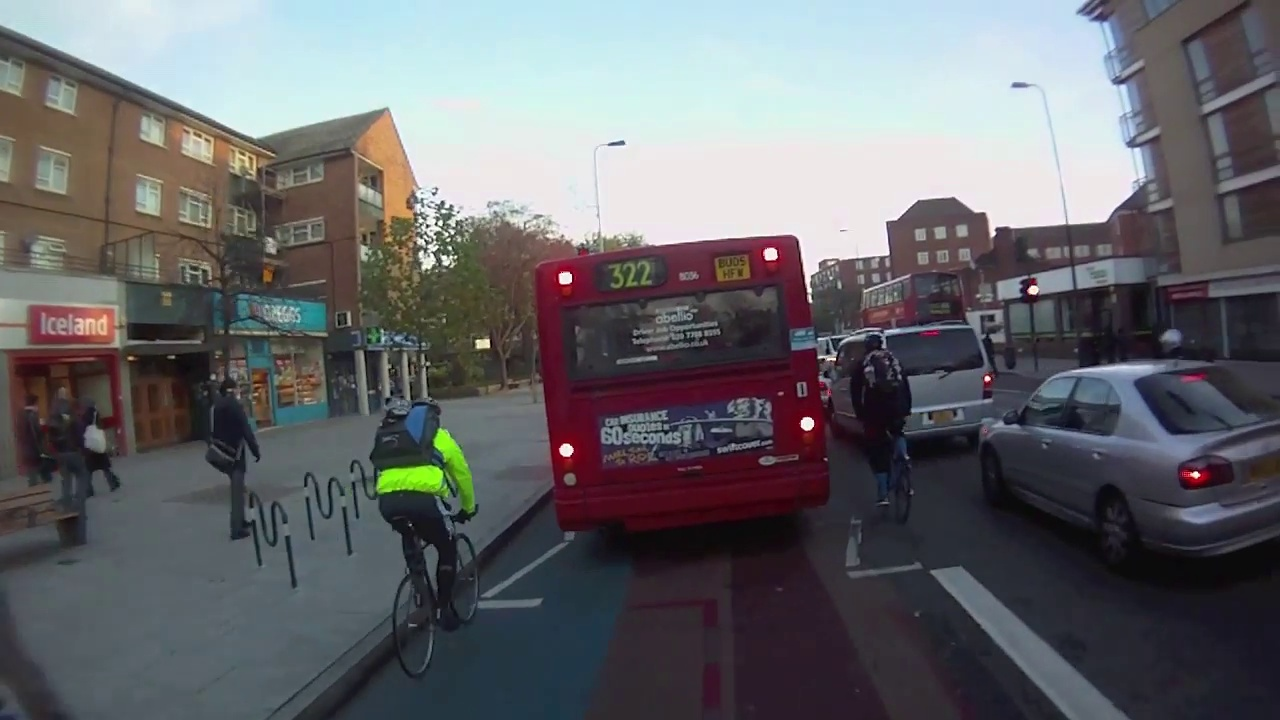cyclist_back: (373, 383, 483, 682), (845, 327, 922, 527)
